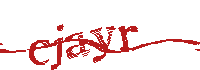a: (65, 30, 89, 60)
c: (29, 36, 53, 67)
j: (51, 22, 65, 70)
r: (117, 25, 139, 54)
y: (90, 24, 116, 64)
